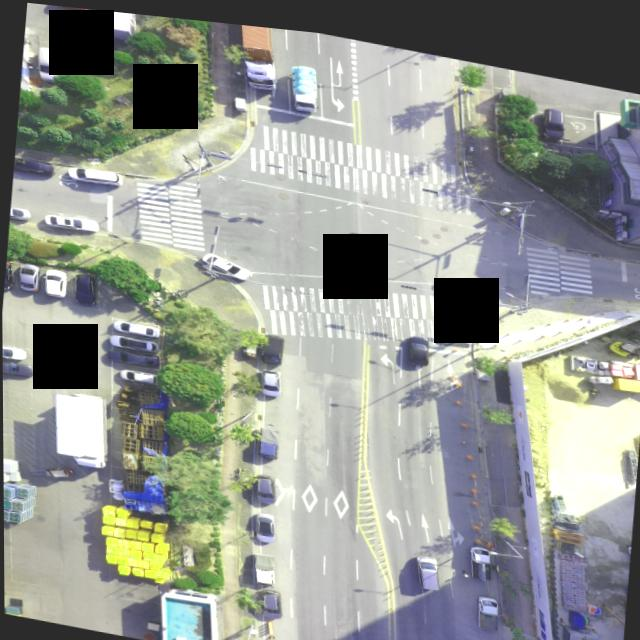car: (412, 544, 442, 584)
large_truck: (232, 19, 282, 85)
medium_truck: (43, 382, 112, 473)
small_truck: (288, 56, 324, 110), (468, 529, 495, 568), (250, 543, 276, 579), (253, 419, 279, 454), (472, 586, 497, 622)
